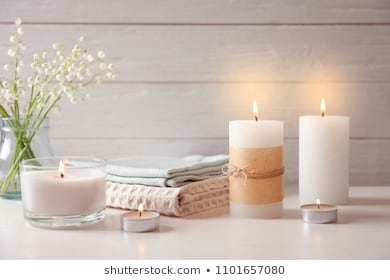Fire: (55, 158, 66, 176), (251, 98, 261, 117), (319, 97, 327, 115), (137, 202, 144, 216), (314, 197, 321, 207)
